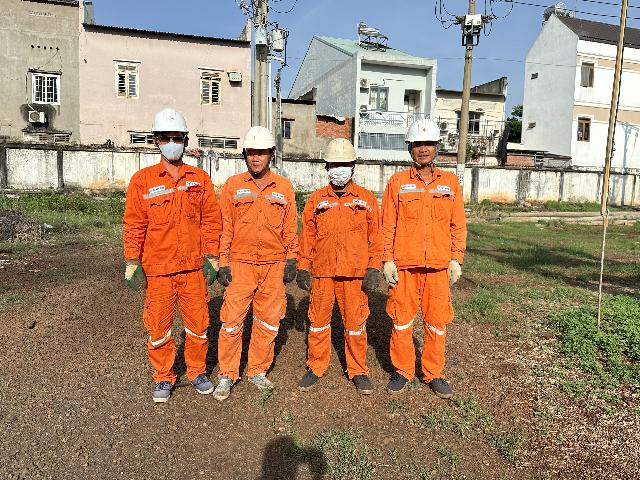gloves: (117, 258, 149, 289), (196, 252, 222, 287), (380, 256, 404, 287), (359, 268, 379, 298), (277, 254, 295, 287), (291, 266, 313, 292), (442, 260, 463, 287), (214, 265, 234, 288)
helmet: (149, 98, 197, 139), (395, 113, 451, 148), (236, 126, 285, 157), (316, 141, 362, 170)
shoes: (149, 372, 178, 406), (290, 368, 324, 395), (386, 367, 411, 397), (189, 370, 213, 399), (352, 368, 377, 395), (242, 372, 274, 393), (208, 375, 235, 398), (428, 374, 449, 401)
